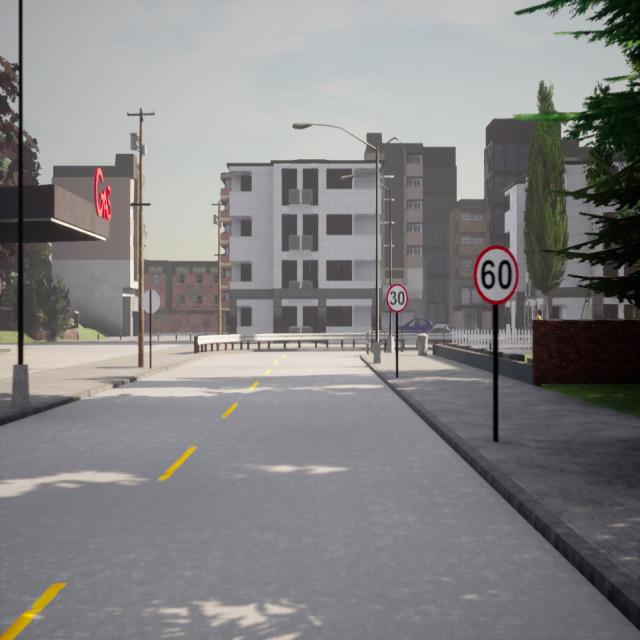Pedestrian: (535, 308, 544, 320)
Traffic_Signs: (473, 246, 518, 304), (386, 283, 408, 312), (144, 290, 160, 313)
Vehicle: (398, 318, 433, 332), (426, 322, 456, 333)
